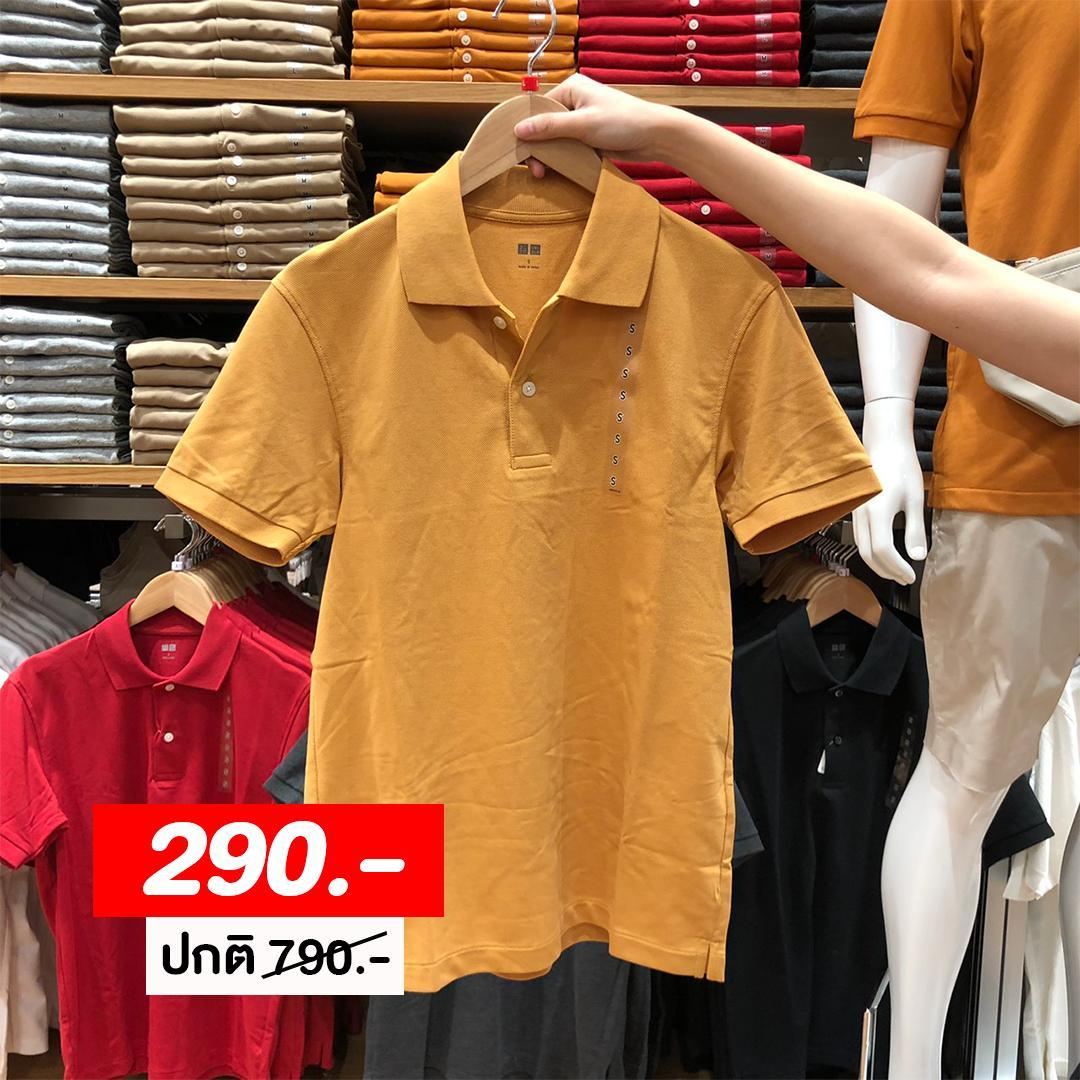Tshirt: (159, 176, 864, 1008)
